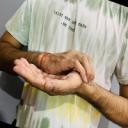hand: (14, 57, 93, 95), (35, 50, 95, 81)
